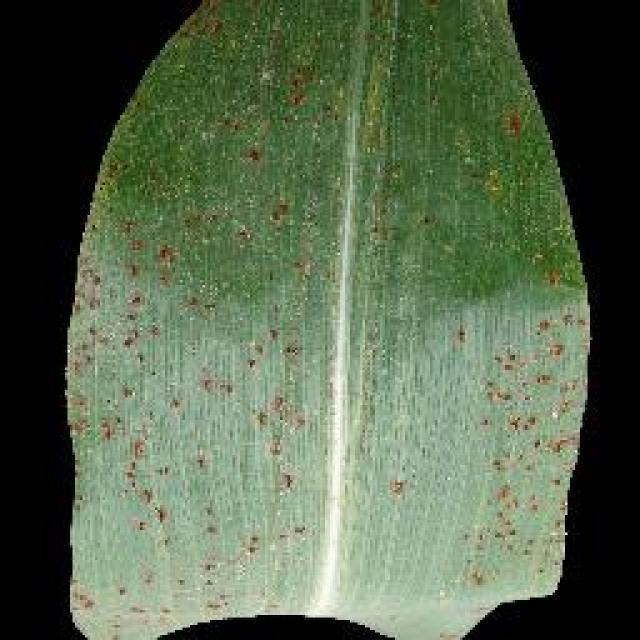Corn Common Rust: (132, 158, 550, 592)
